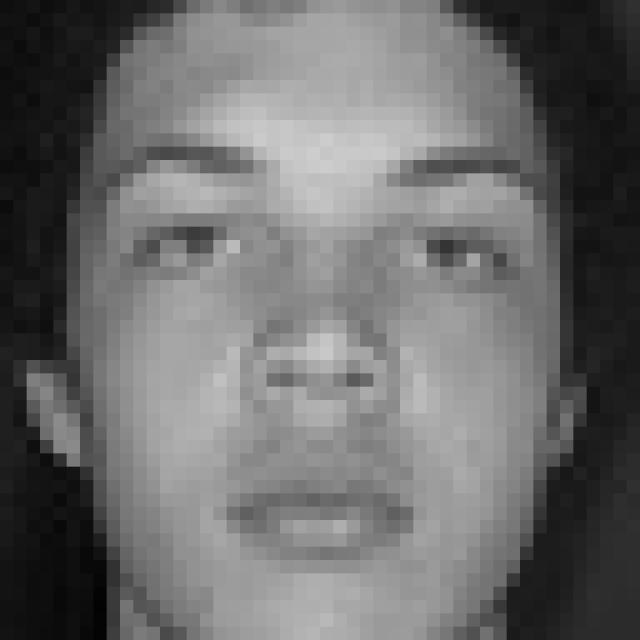neutral: (94, 135, 560, 578)
